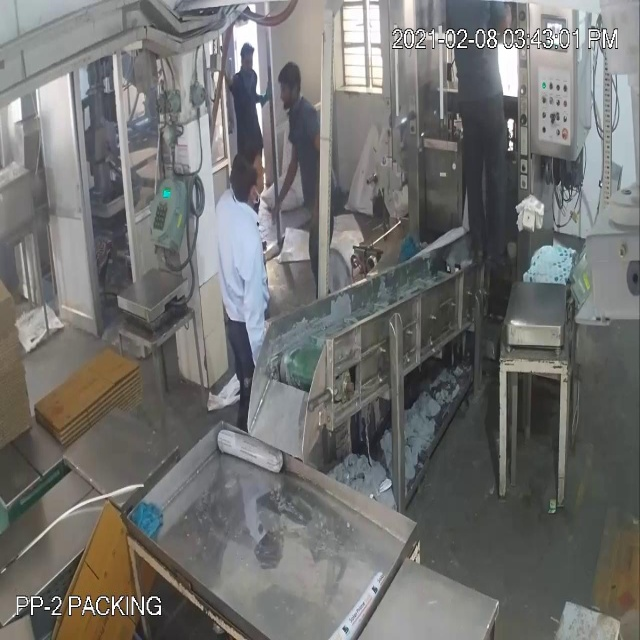Sin_guantes: (240, 243, 274, 372), (265, 132, 304, 230)
